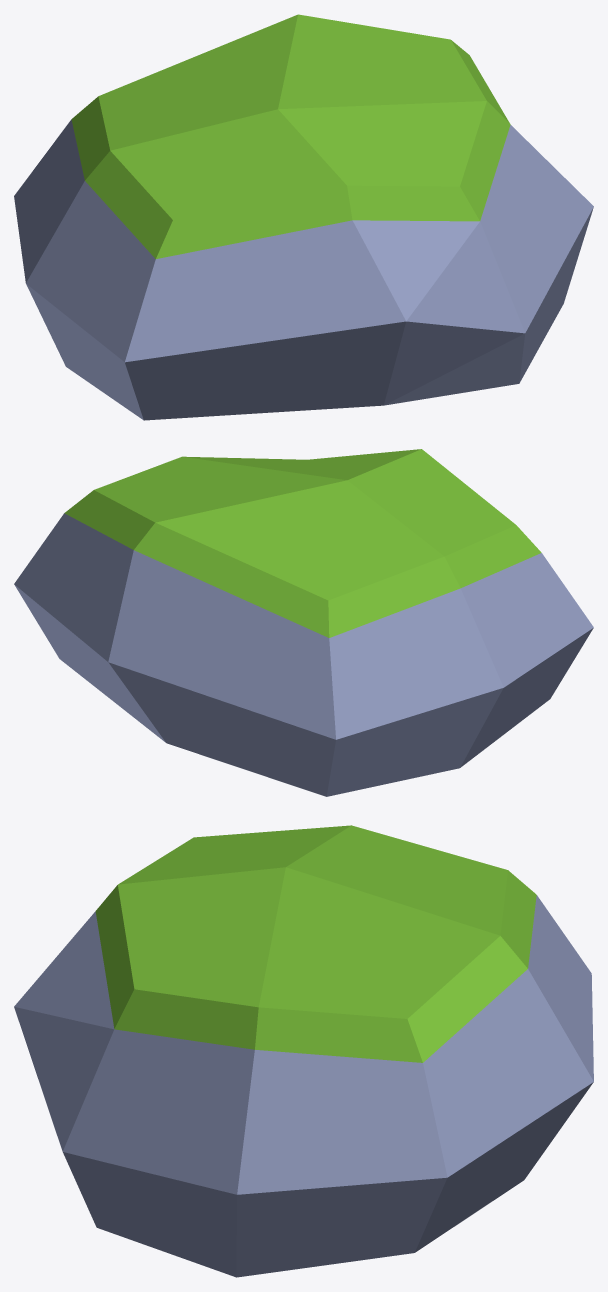
The model's file is Stone_1_1.fbx.
3 views of the same model, one above another, from view 1: azimuth 30°, elevation 25°; view 2: azimuth 150°, elevation 25°; view 3: azimuth 270°, elevation 25° (orthographic). The views are drawn at different scales.
Visible parts, largest first — view 1: Stone_1_1; view 2: Stone_1_1; view 3: Stone_1_1.
Part boxes in pixels (<box>): Stone_1_1: <box>14,14,593,420</box>; Stone_1_1: <box>14,449,593,796</box>; Stone_1_1: <box>14,825,593,1277</box>.
Size of the model in its own units: 1.12 by 0.5231 by 0.9934.
